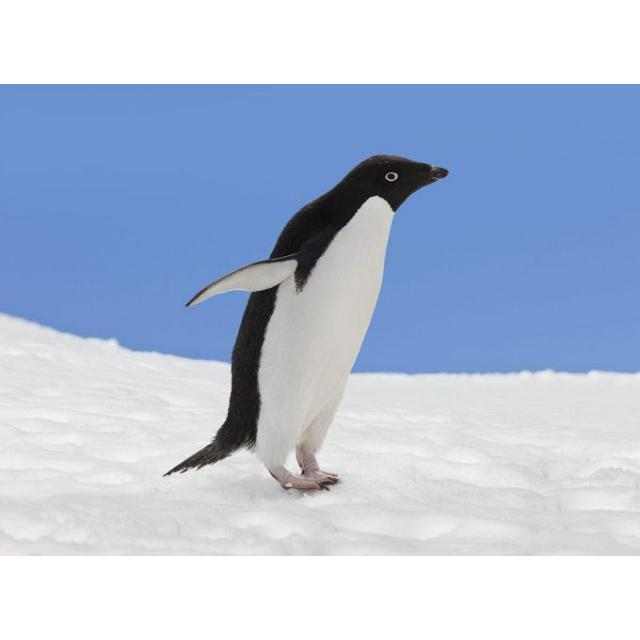penguin: (162, 155, 447, 495)
